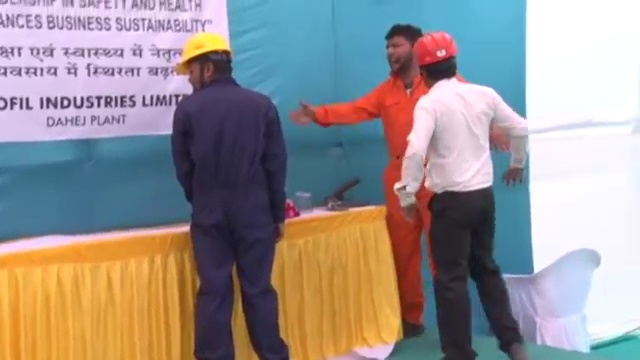helmet: (175, 32, 232, 75), (411, 31, 459, 68)
helmet_off: (384, 24, 423, 79)
helmet_on: (173, 29, 233, 94), (409, 29, 460, 90)
person: (287, 23, 439, 334), (396, 28, 531, 360), (167, 30, 290, 360)
